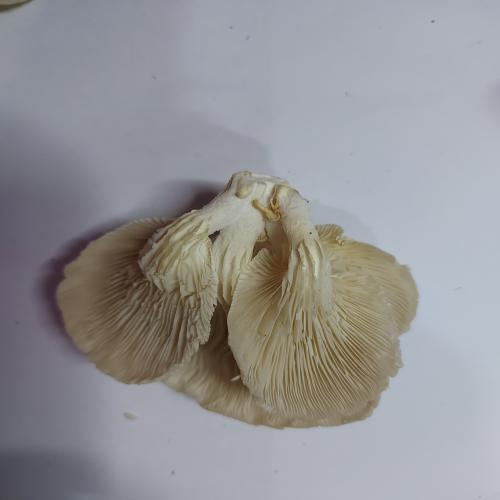Oyster Mushroom: (54, 170, 420, 429)
